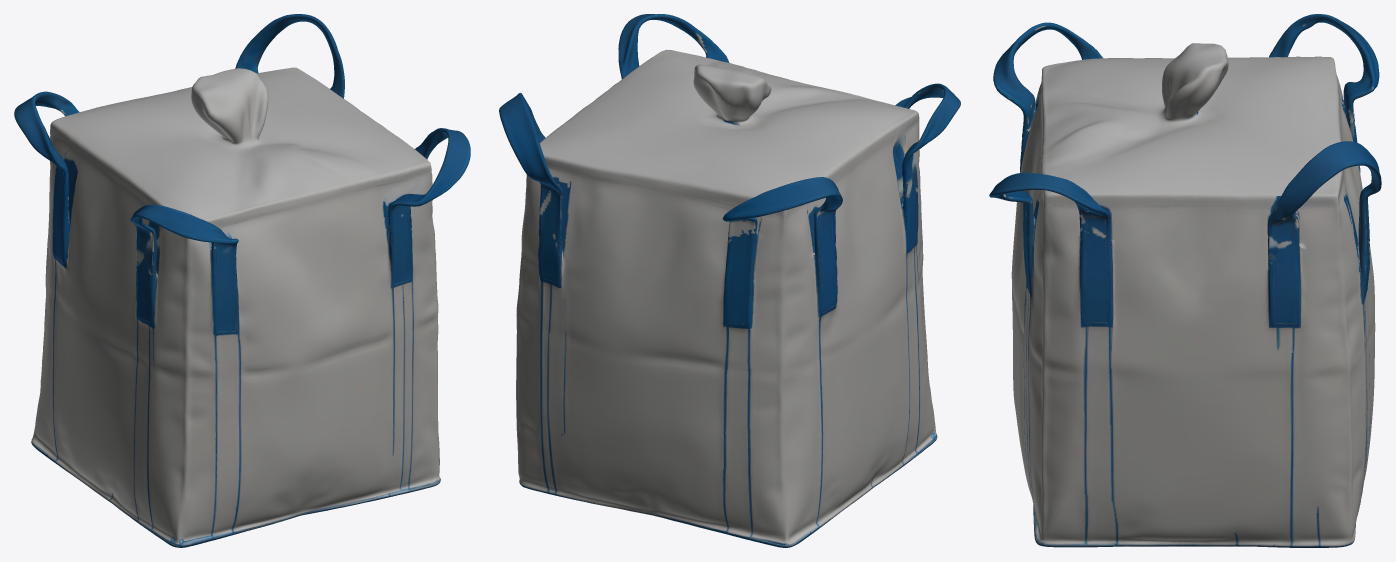
Rendered from бигбег.glb.
3 views of the same model, side by side, from view 1: azimuth 30°, elevation 25°; view 2: azimuth 150°, elevation 25°; view 3: azimuth 270°, elevation 25° (orthographic). The views are drawn at different scales.
Parts seen in each view (by area): view 1: tripo_node_d6159f6d; view 2: tripo_node_d6159f6d; view 3: tripo_node_d6159f6d.
Part boxes in pixels (left/top/right/bottom): tripo_node_d6159f6d: left=14, top=14, right=470, bottom=547; tripo_node_d6159f6d: left=499, top=14, right=960, bottom=547; tripo_node_d6159f6d: left=989, top=14, right=1381, bottom=547.
Bounding box in the file's own units: 87.22 × 99.93 × 84.07.
Materials: 1 (1 with a texture image).
